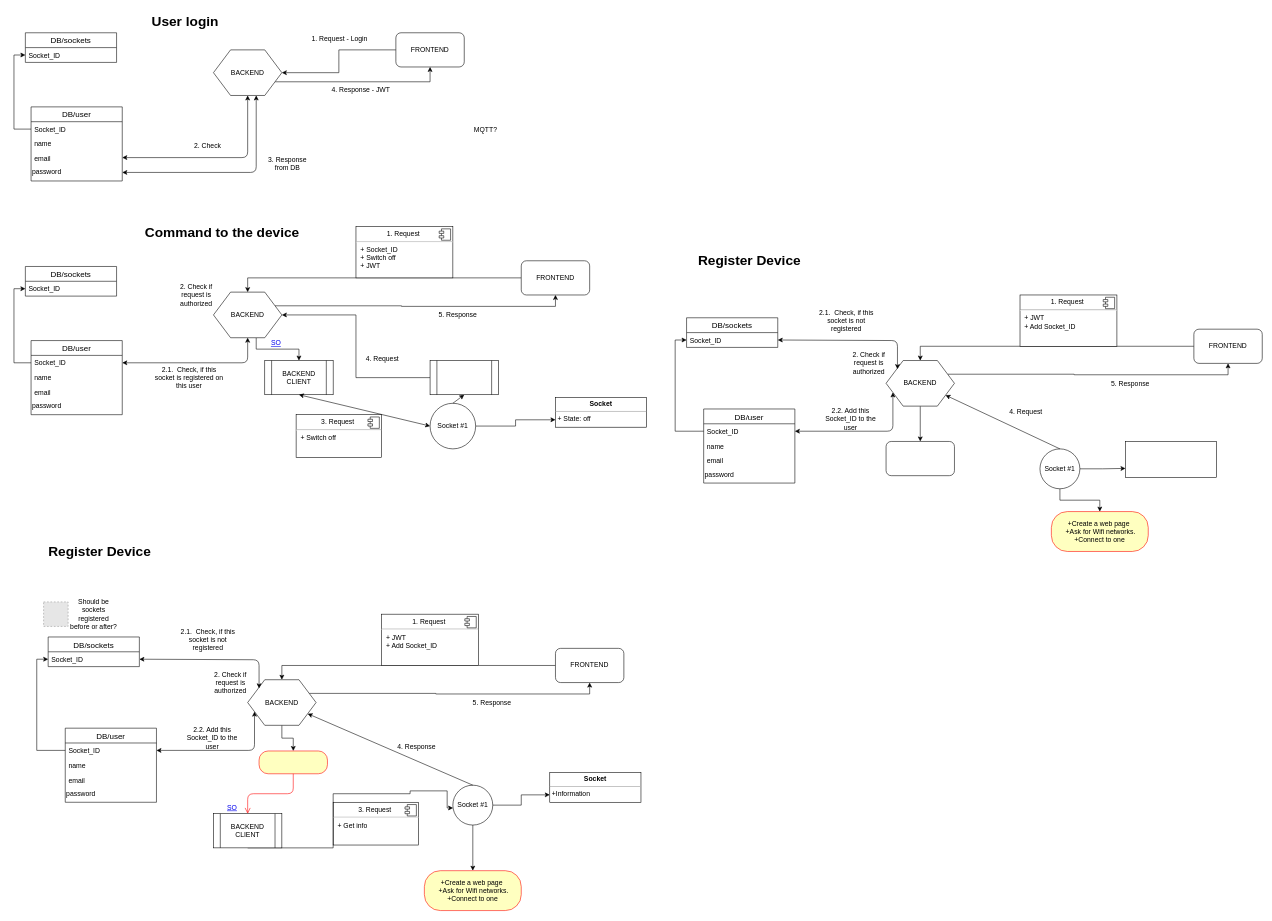
This 1272x921 diagram has some shape labels left out. Grey dashed boxes stand in for pictures. Each missing label, with the centre of its shape:
3. Scan local network for open api route: pixel 292 762
Socket +State -Data: pixel 1171 459
SOCKET CLIENT: pixel 463 377
Static IP: pixel 919 458
